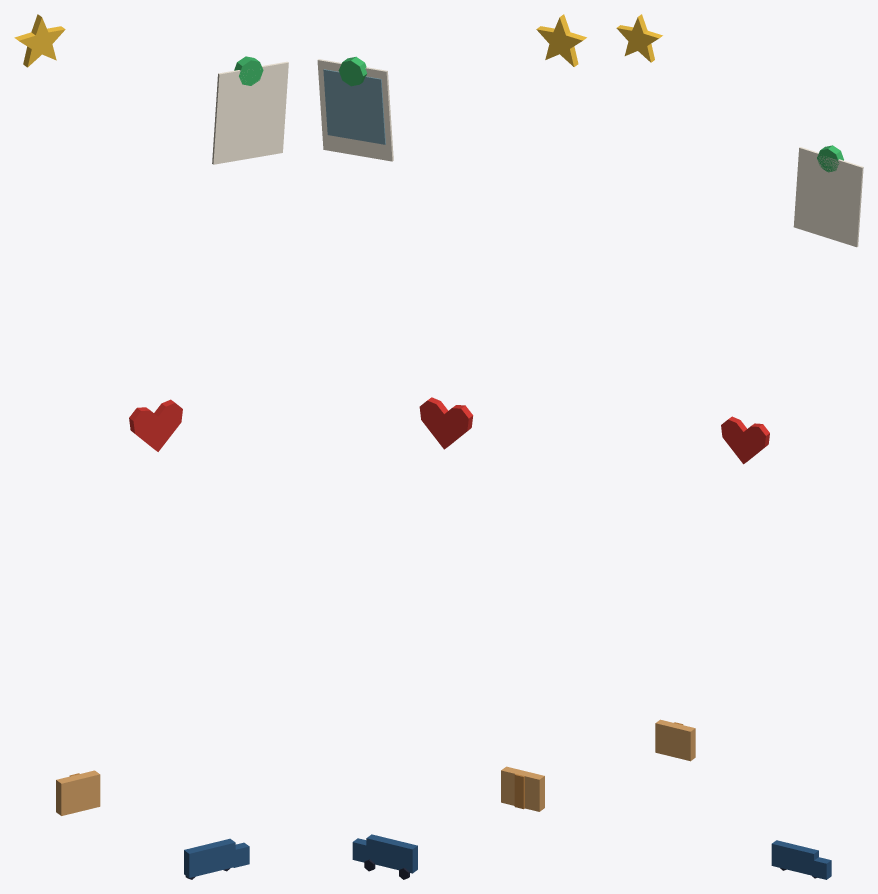
The model's file is sm_env_depot_fridge_magnets.glb.
The picture shows the model from 3 angles, left to right: view 1: azimuth 30°, elevation 25°; view 2: azimuth 150°, elevation 25°; view 3: azimuth 330°, elevation 25°; orthographic projection. The views are drawn at different scales.
Visible parts, largest first — view 1: Photo, MagnetHeart, MagnetParcel, MagnetVan, MagnetStar, MagnetRound; view 2: PhotoImage, Photo, MagnetHeart, MagnetVan, MagnetParcel, MagnetStar, MagnetRound; view 3: Photo, MagnetHeart, MagnetParcel, MagnetVan, MagnetStar, MagnetRound.
Part boxes in pixels (x1,y1,x2,y2): Photo: (212,61,288,164); MagnetHeart: (129,399,182,451); MagnetParcel: (56,770,100,815); MagnetVan: (184,838,235,877); MagnetStar: (14,14,65,67); MagnetRound: (234,56,263,85); PhotoImage: (323,69,385,144); Photo: (317,59,393,161); MagnetHeart: (419,397,473,449); MagnetVan: (366,834,417,873); MagnetParcel: (501,766,544,811); MagnetStar: (536,14,586,66); MagnetRound: (338,56,367,86); Photo: (793,147,863,247); MagnetHeart: (721,416,769,464); MagnetParcel: (655,719,695,761); MagnetVan: (771,840,818,875); MagnetStar: (616,14,662,62); MagnetRound: (817,145,843,172).
Bounding box in the file's own units: 0.3492 × 1.12 × 0.015.
